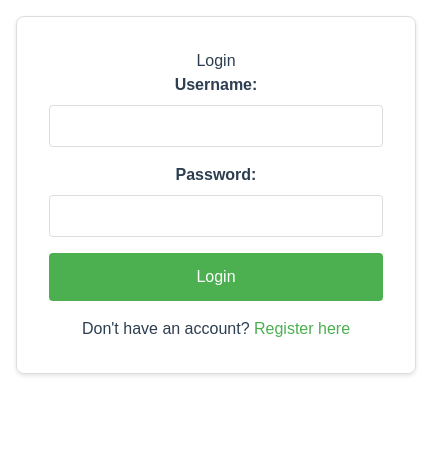
Test case: LoginPage.vue › shows error if login failed
Type "wronguser" into the field. click: [216, 126]
box: x1=49 y1=105 x2=383 y2=147
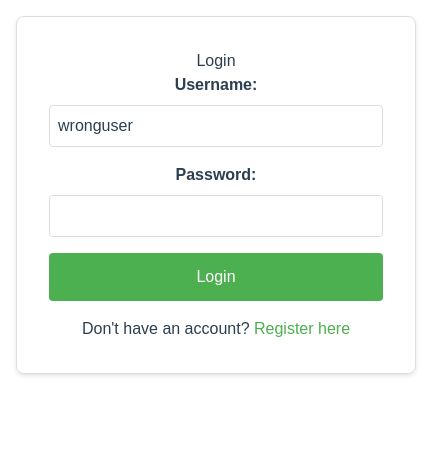
Type "wrongpass" into the password field. click: [216, 216]
box: x1=49 y1=195 x2=383 y2=237
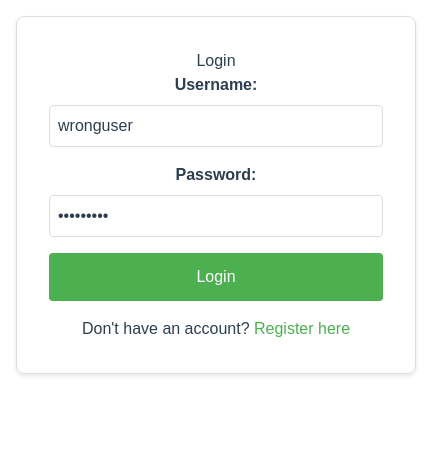
Submit the form, box x1=49 y1=73 x2=383 y2=301
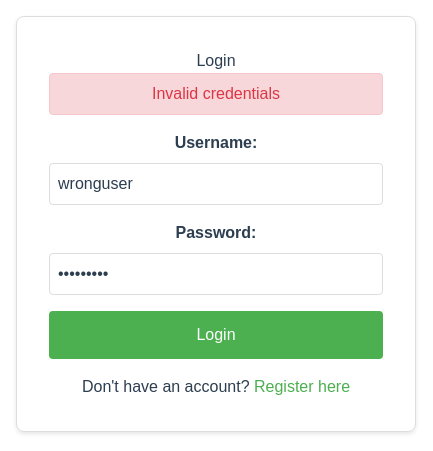
Expected: the text "Invalid credentials" is shown, x1=49 y1=73 x2=383 y2=115
